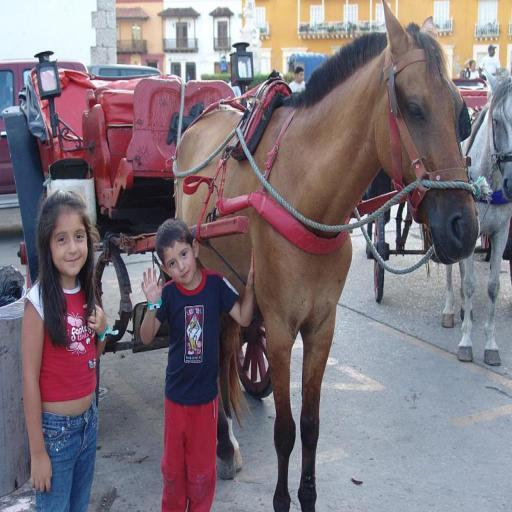Horse: (175, 0, 481, 511), (418, 64, 512, 368)
